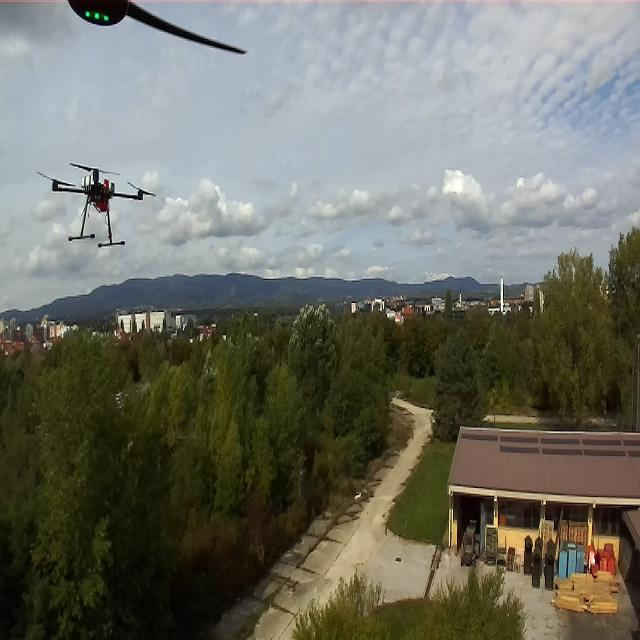UAV: (36, 157, 158, 243)
